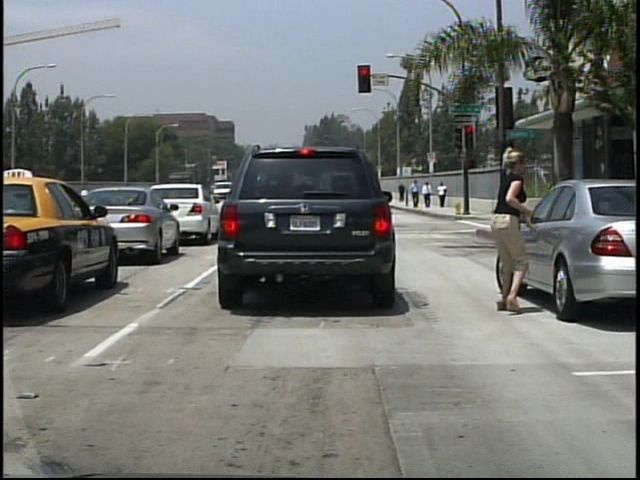person: (487, 139, 545, 316), (412, 177, 423, 207), (438, 180, 449, 208), (423, 180, 433, 208), (398, 182, 407, 203)
